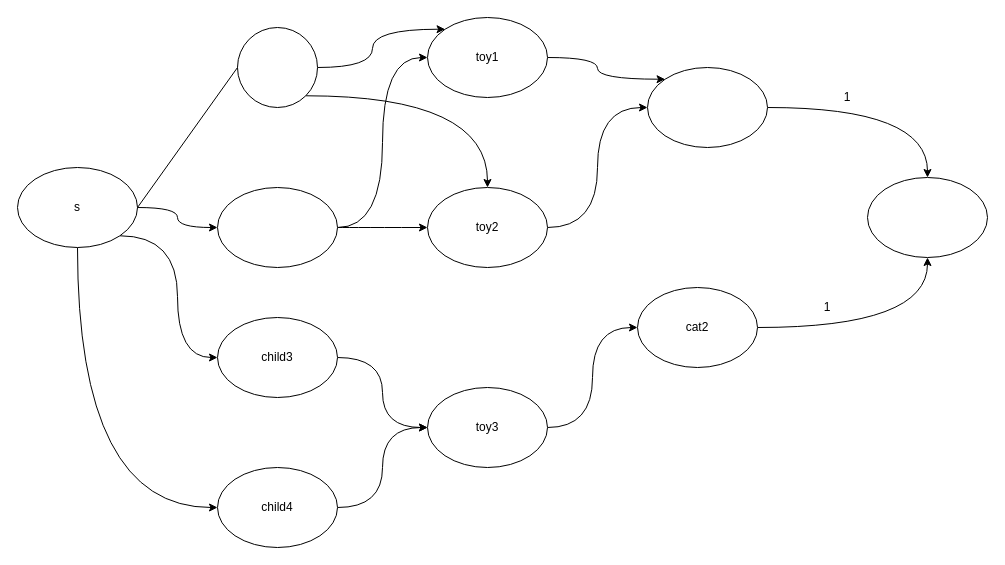
Some shapes in this 1005 by 565 pixel diagram are drawn without their labels. Here are the shapes that lost their labels. From the top down, the centre of each, then its label:
(277,67): child1
(707,107): cat1
(277,227): child2
(927,217): dest
